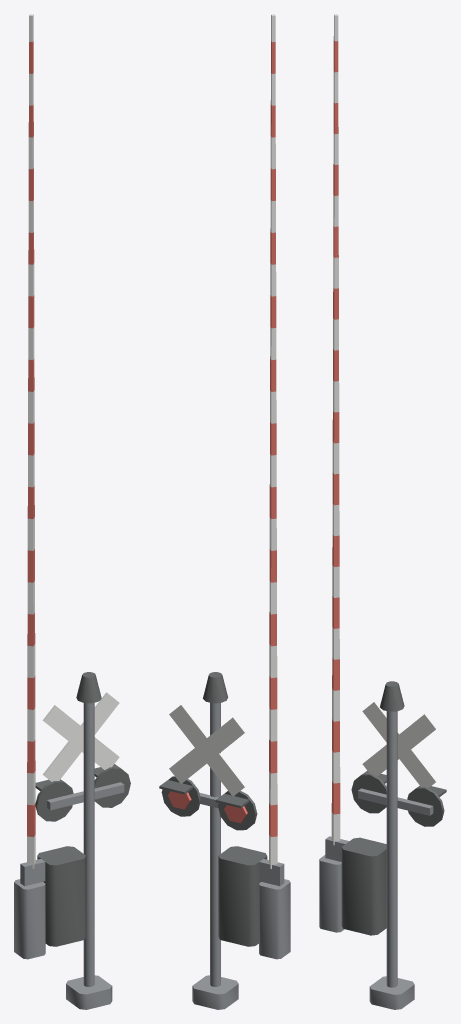
Rendered from crossing-gate-3.glb.
3 views of the same model, side by side, from view 1: azimuth 30°, elevation 25°; view 2: azimuth 150°, elevation 25°; view 3: azimuth 330°, elevation 25° (orthographic). The views are drawn at different scales.
Visible parts, largest first — view 1: crossing-gate-3; view 2: crossing-gate-3; view 3: crossing-gate-3.
Boxes of the visible parts, x1,y1,x2,y2 form: crossing-gate-3: [14, 14, 130, 1009]; crossing-gate-3: [159, 14, 290, 1009]; crossing-gate-3: [319, 14, 446, 1009].
Bounding box in the file's own units: 0.1229 × 1 × 0.045.
